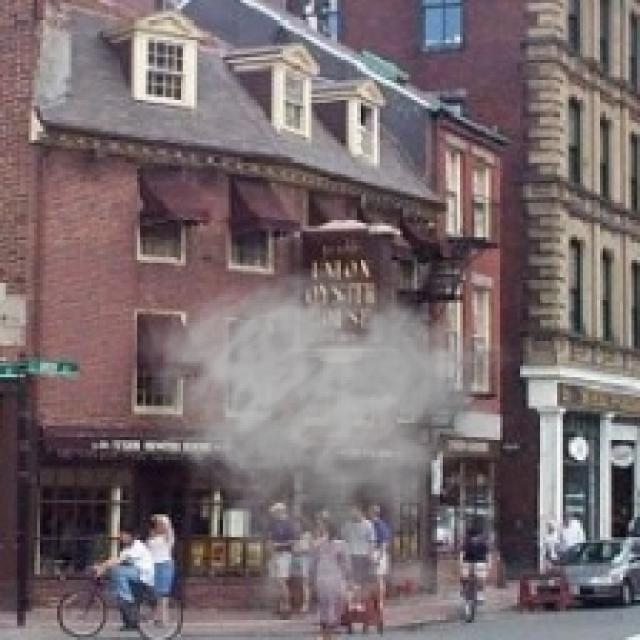smoke: (134, 266, 520, 637)
